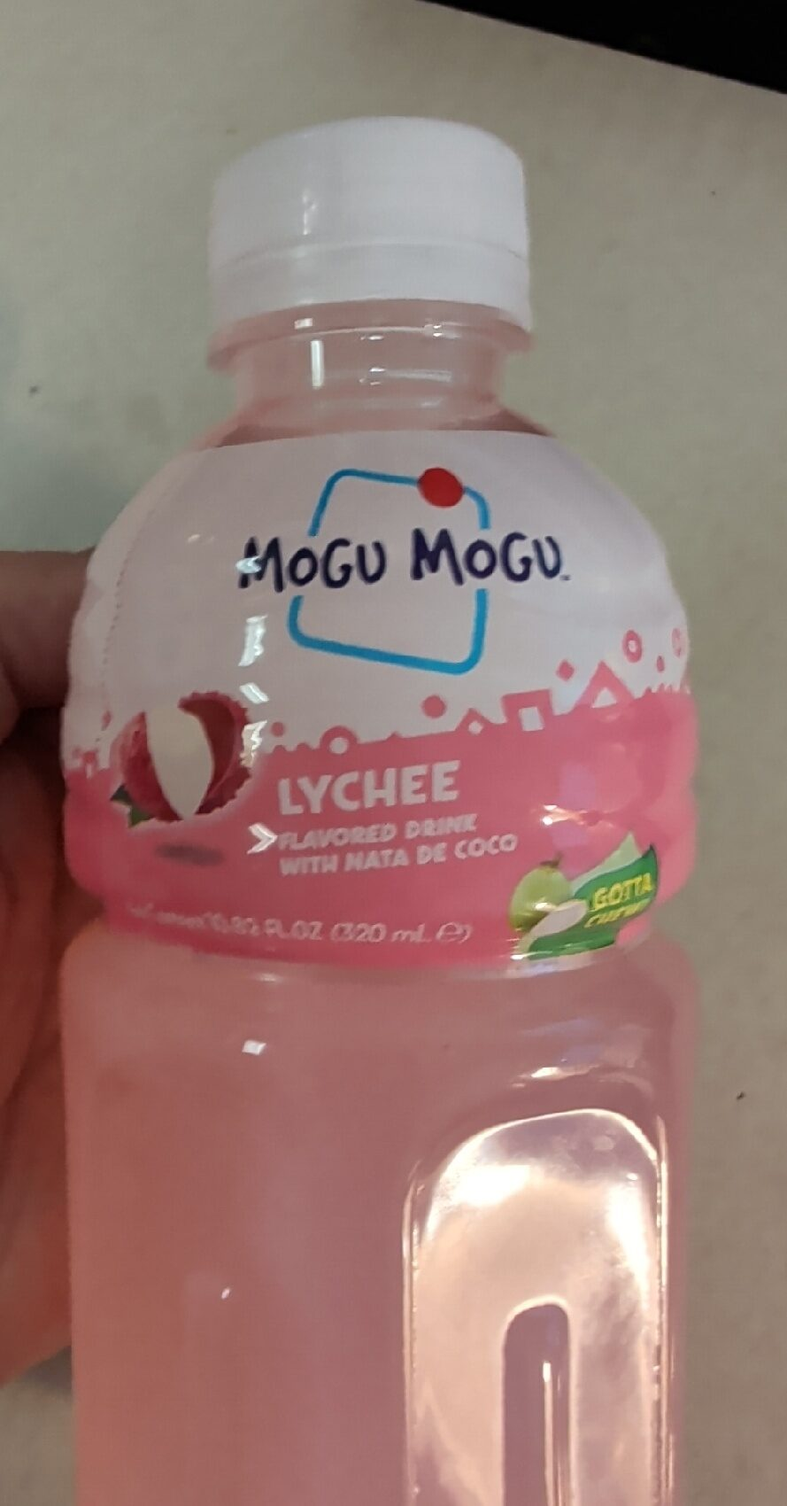Mogu lychee: (39, 75, 748, 1431)
